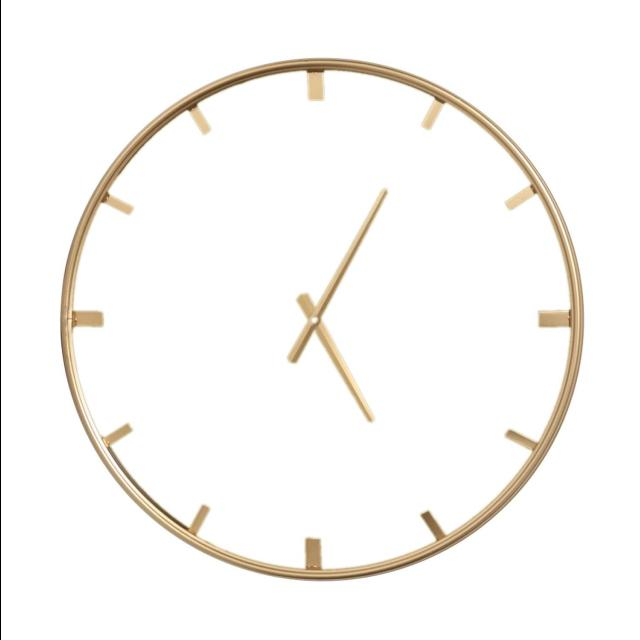clock: (86, 0, 591, 583)
